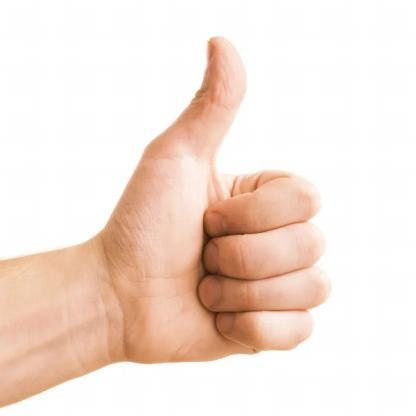thumb_up: (98, 34, 334, 368)
